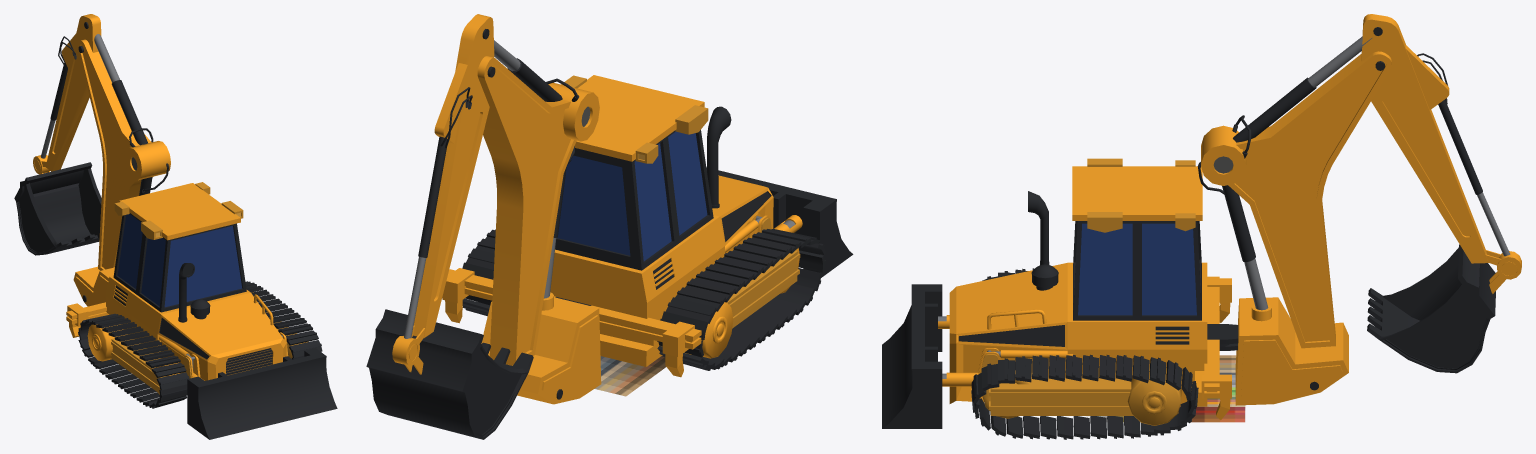
File: Buldozer_2.fbx
The picture shows the model from 3 angles, left to right: view 1: azimuth 30°, elevation 25°; view 2: azimuth 150°, elevation 25°; view 3: azimuth 270°, elevation 25°; orthographic projection. The views are drawn at different scales.
Parts seen in each view (by area): view 1: Buldozer_2, BuldozerDiggerHead_2, BuldozerDigger_2, BuldozerDiggerTile_2; view 2: Buldozer_2, BuldozerDiggerHead_2, BuldozerDiggerTile_2, BuldozerDigger_2; view 3: Buldozer_2, BuldozerDiggerHead_2, BuldozerDiggerTile_2, BuldozerDigger_2.
Boxes of the visible parts, box(x1,y1,x2,y2) form: Buldozer_2: box(66, 182, 322, 408); BuldozerDiggerHead_2: box(33, 14, 170, 306); BuldozerDigger_2: box(187, 348, 337, 439); BuldozerDiggerTile_2: box(14, 162, 101, 255); Buldozer_2: box(442, 75, 825, 396); BuldozerDiggerHead_2: box(392, 14, 601, 404); BuldozerDiggerTile_2: box(366, 309, 533, 439); BuldozerDigger_2: box(706, 167, 853, 277); Buldozer_2: box(938, 158, 1245, 439); BuldozerDiggerHead_2: box(1197, 14, 1521, 405); BuldozerDiggerTile_2: box(1367, 244, 1495, 373); BuldozerDigger_2: box(882, 284, 942, 428).
Bounding box in the file's own units: 329 × 516 × 807.
